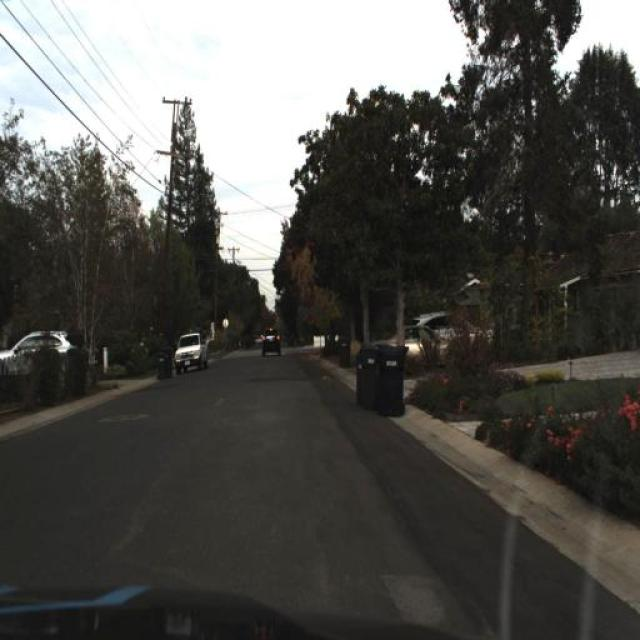car: (0, 329, 80, 387), (384, 326, 460, 370), (380, 321, 441, 371), (411, 307, 498, 342), (416, 308, 486, 343), (170, 328, 210, 369), (174, 330, 208, 374), (258, 322, 283, 361)
